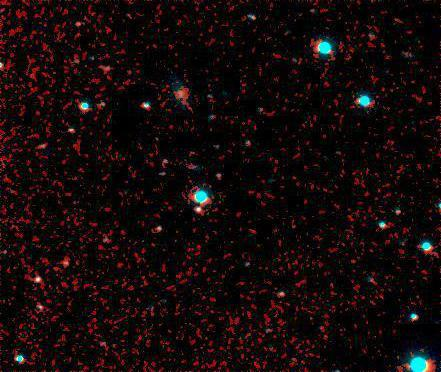star: (33, 134, 63, 164)
